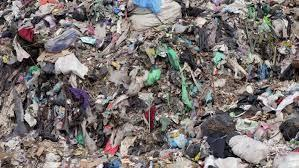Trash: (0, 2, 299, 168)
